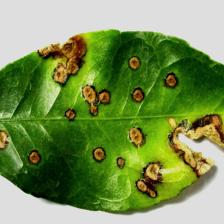canker: (0, 32, 224, 209)
